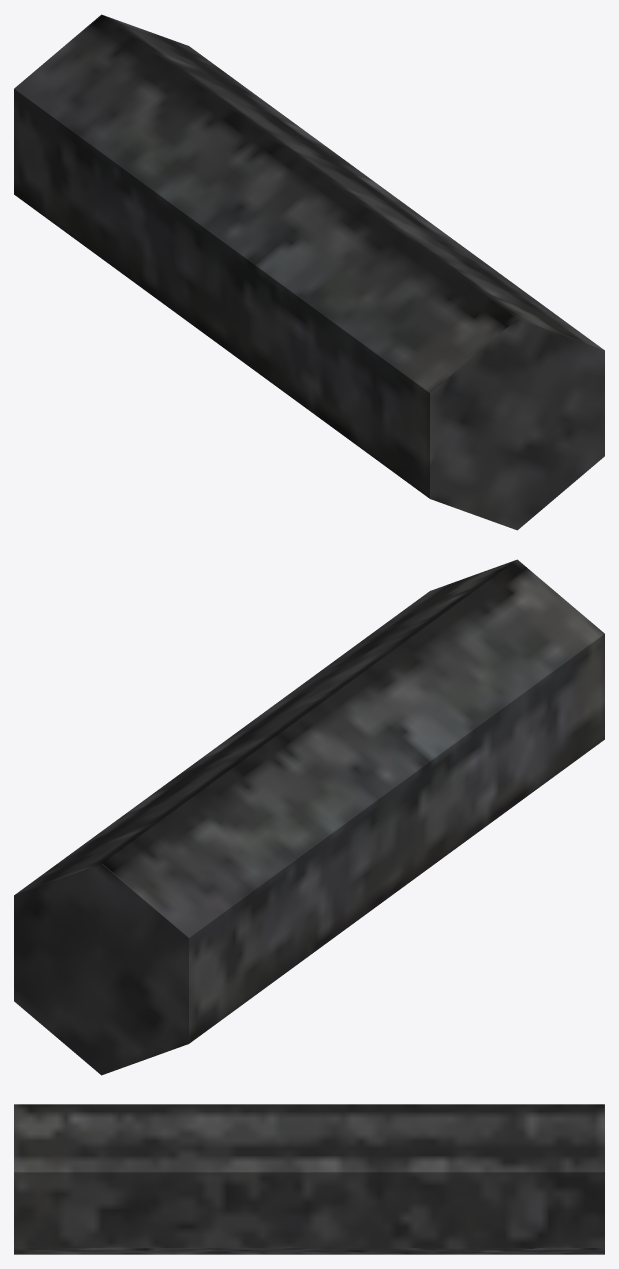
Rendered from AK47Latch.fbx.
The picture shows the model from 3 angles, top to bottom: view 1: azimuth 30°, elevation 25°; view 2: azimuth 150°, elevation 25°; view 3: azimuth 270°, elevation 25°; orthographic projection. The views are drawn at different scales.
Parts seen in each view (by area): view 1: AK47Latch; view 2: AK47Latch; view 3: AK47Latch.
Boxes of the visible parts, x1,y1,x2,y2 form: AK47Latch: (14,14,604,530); AK47Latch: (14,559,604,1075); AK47Latch: (14,1104,604,1254).
Bounding box in the file's own units: 3.25 × 3.75 × 13.36.
